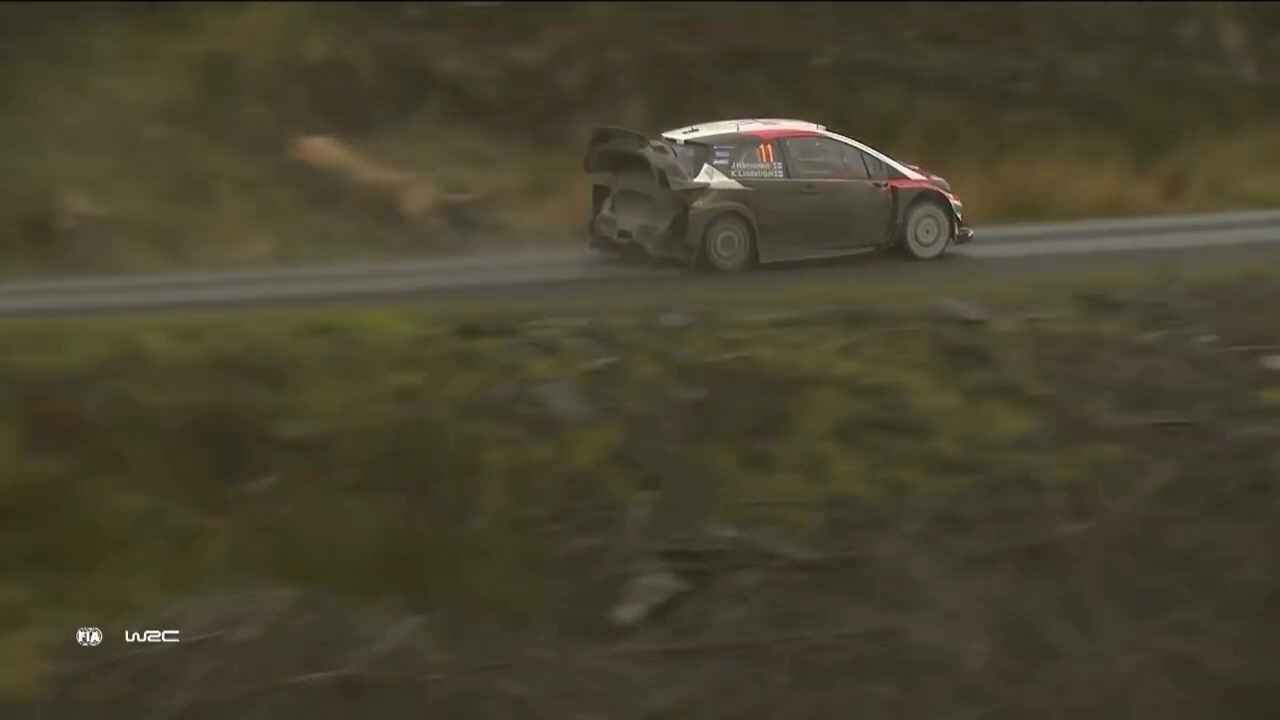araba: (587, 114, 975, 265)
